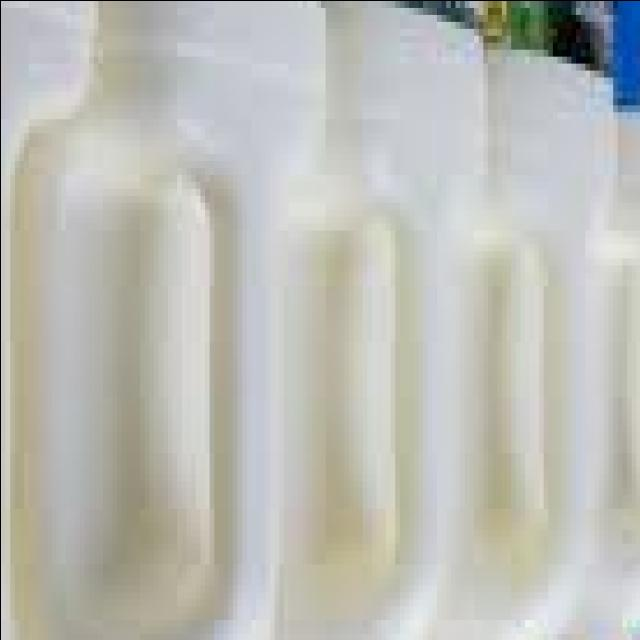milk: (0, 0, 330, 640), (343, 0, 631, 640), (213, 0, 473, 640), (529, 0, 640, 640)
